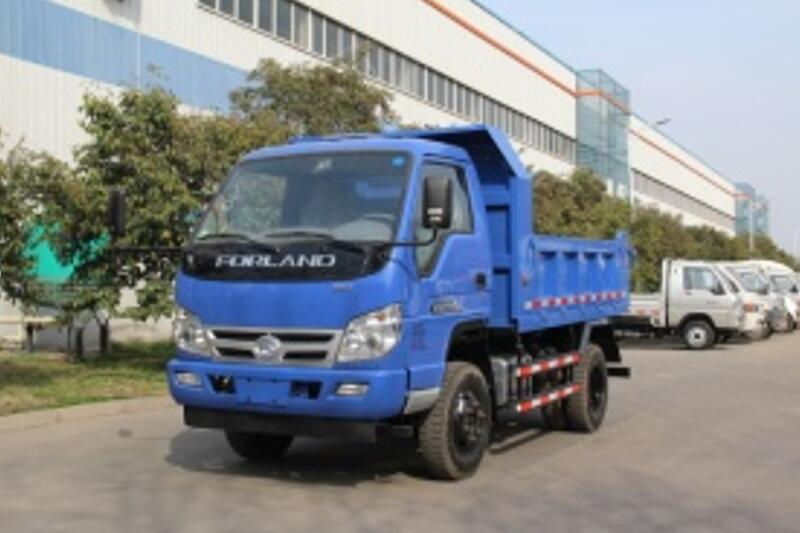truck: (164, 109, 629, 483)
